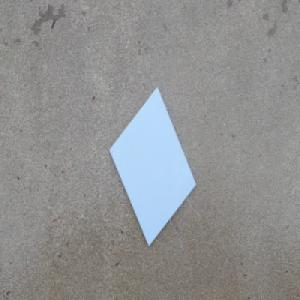PaintChip: (108, 84, 197, 249)
